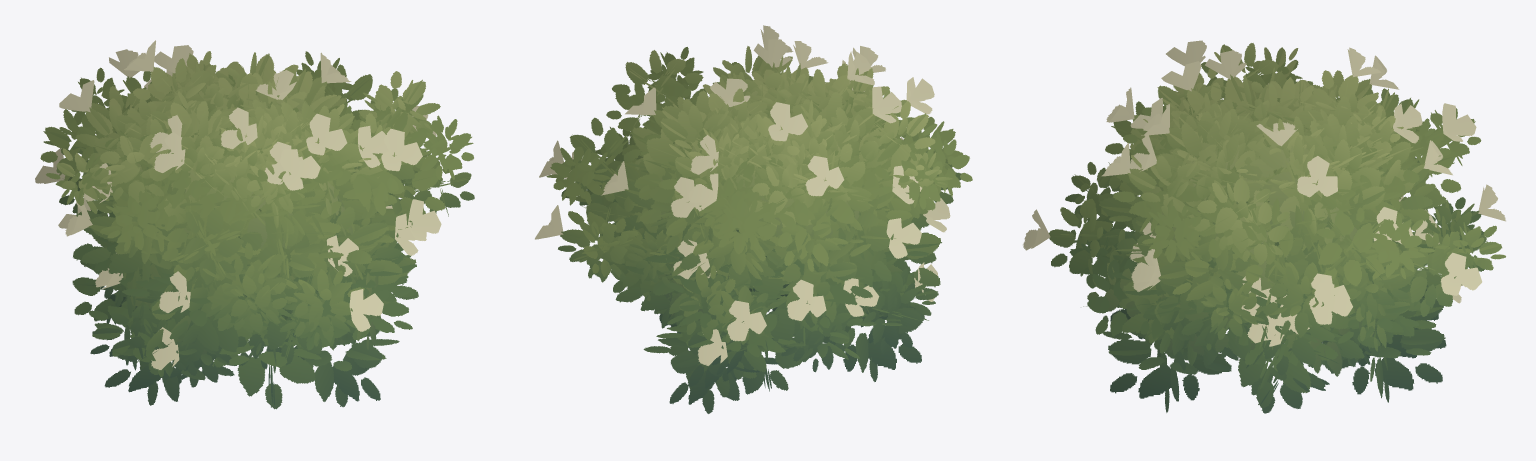
The model's file is shrub-open-flowering.glb.
The picture shows the model from 3 angles, left to right: view 1: azimuth 30°, elevation 25°; view 2: azimuth 150°, elevation 25°; view 3: azimuth 270°, elevation 25°; orthographic projection. The views are drawn at different scales.
Visible parts, largest first — view 1: shrub-open-flowering runtime mesh; view 2: shrub-open-flowering runtime mesh; view 3: shrub-open-flowering runtime mesh.
Part boxes in pixels (bbox=[...]): shrub-open-flowering runtime mesh: bbox=[35, 40, 474, 409]; shrub-open-flowering runtime mesh: bbox=[535, 25, 972, 413]; shrub-open-flowering runtime mesh: bbox=[1023, 40, 1505, 413].
Size of the model in its own units: 1.45 by 1.2 by 1.49.
Materials: 2 (2 with a texture image).
